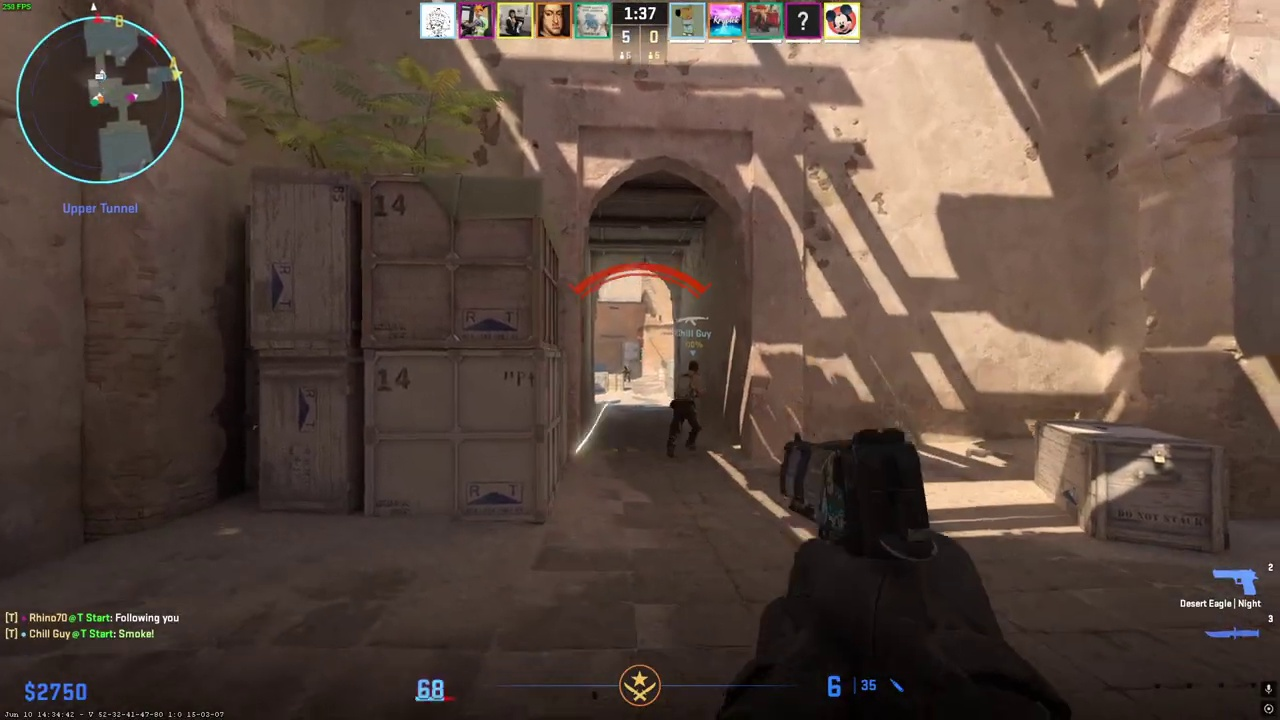CT: (622, 366, 631, 382)
Terrorist: (670, 361, 705, 458)
